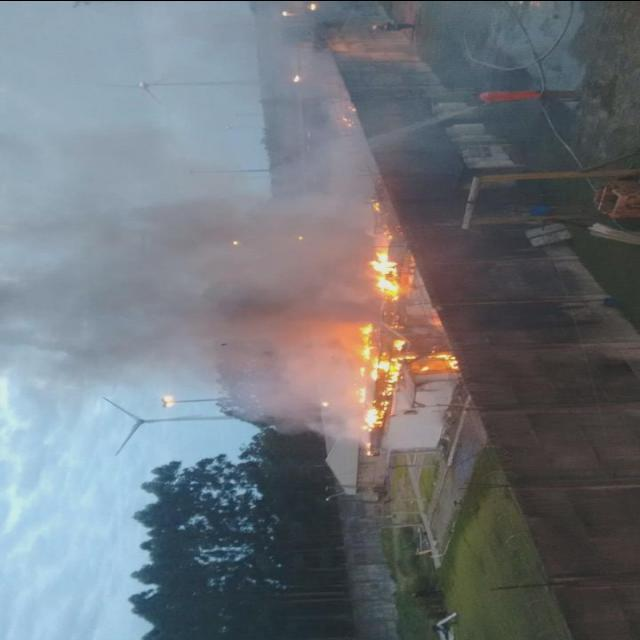Fire: (368, 354, 418, 394), (366, 249, 402, 297), (350, 406, 388, 430), (417, 352, 458, 372), (358, 324, 376, 358), (369, 197, 385, 214), (354, 386, 366, 402), (393, 337, 405, 351), (380, 227, 394, 239), (340, 116, 354, 128), (357, 367, 367, 376)
